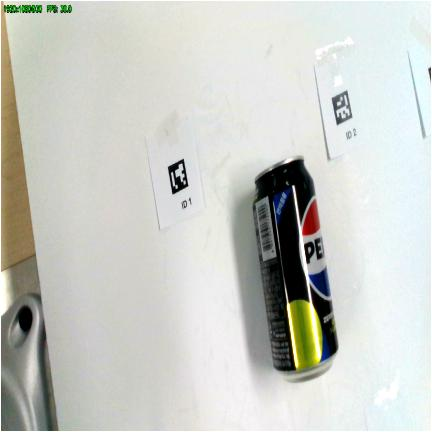can_pepsi_zero: (253, 156, 338, 380)
